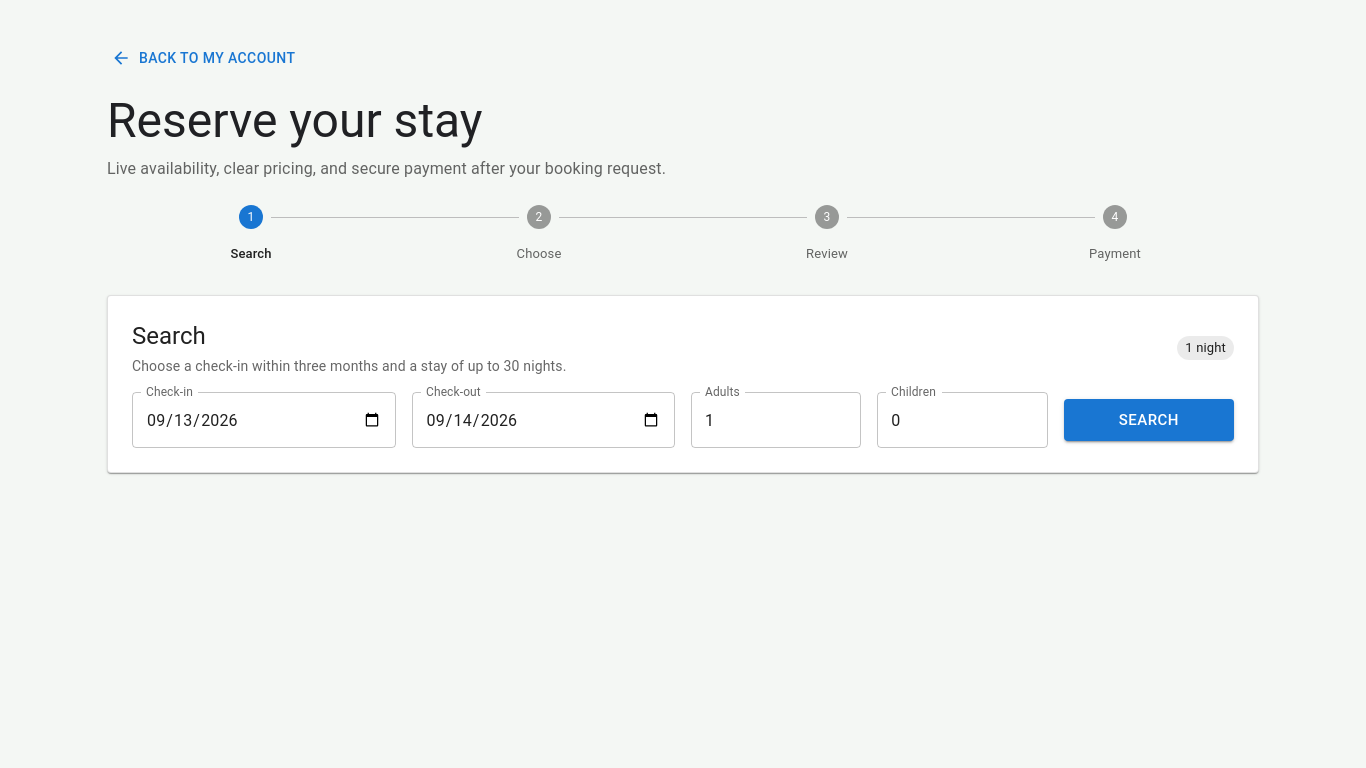
Test case: PortalBookingPage complimentary nights › re-prices against the specific night the guest comped, not an average
Step 1. Click the button "Search" → x=1149, y=420, box x1=1064 y1=399 x2=1234 y2=441
(page scrolled)
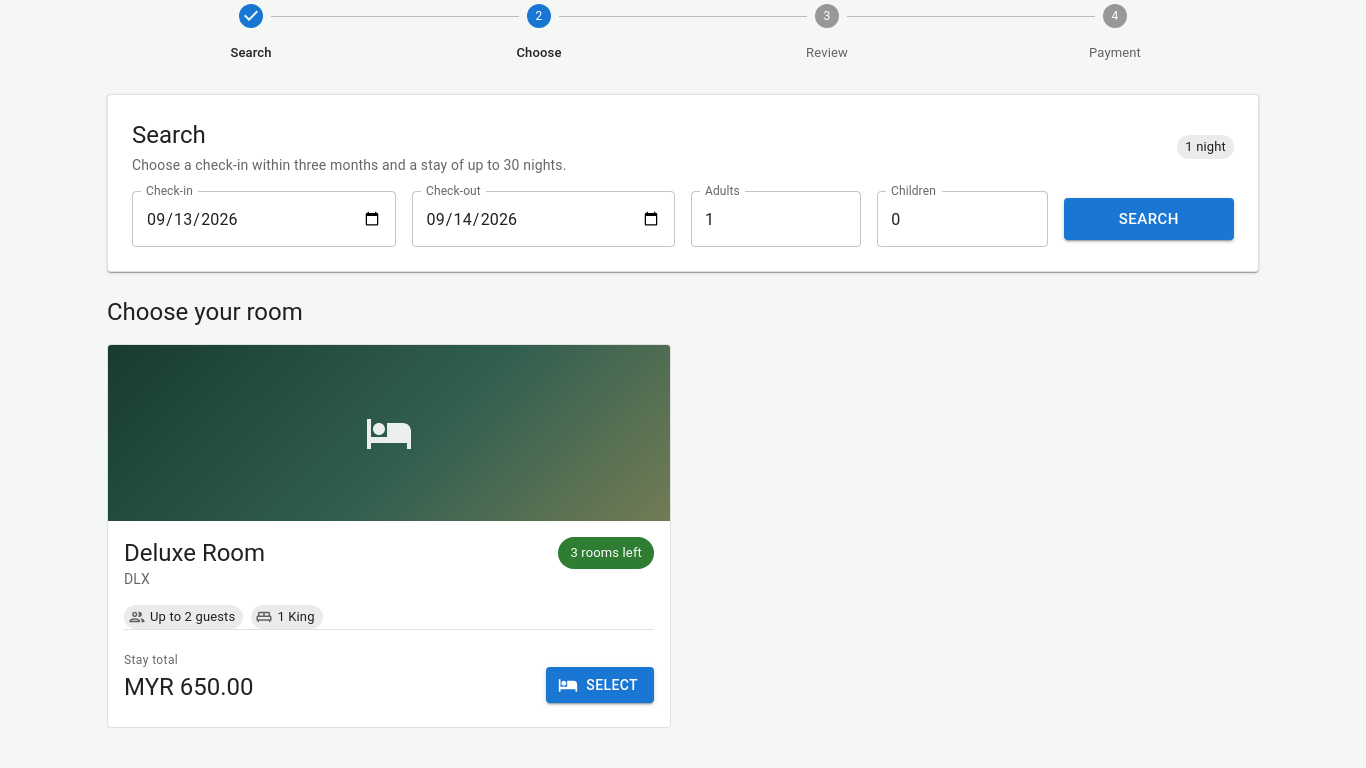
Step 2. Click the button "Select" → x=600, y=685, box x1=546 y1=667 x2=654 y2=703
(page scrolled)
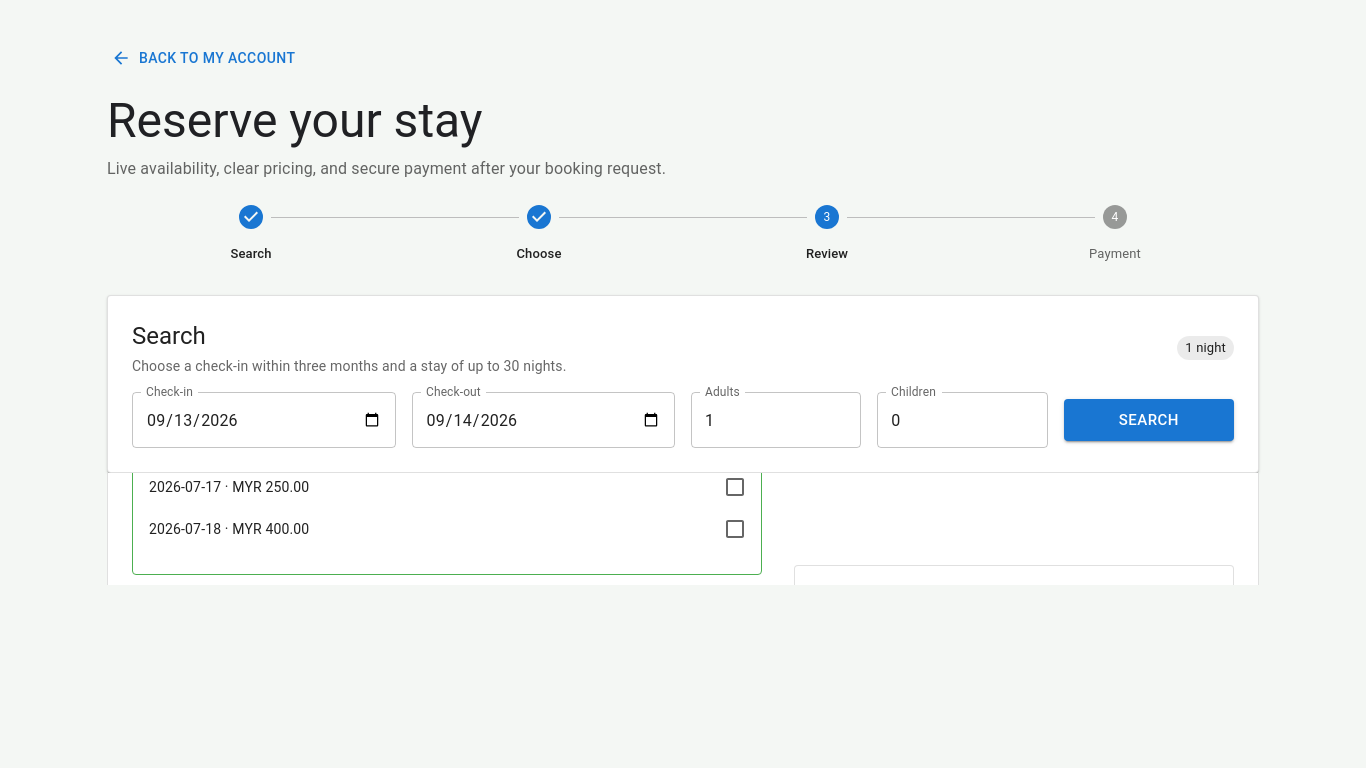
Step 3. Click the checkbox labelled "2026-07-18 · MYR 400.00" → x=185, y=529, box x1=149 y1=517 x2=746 y2=541
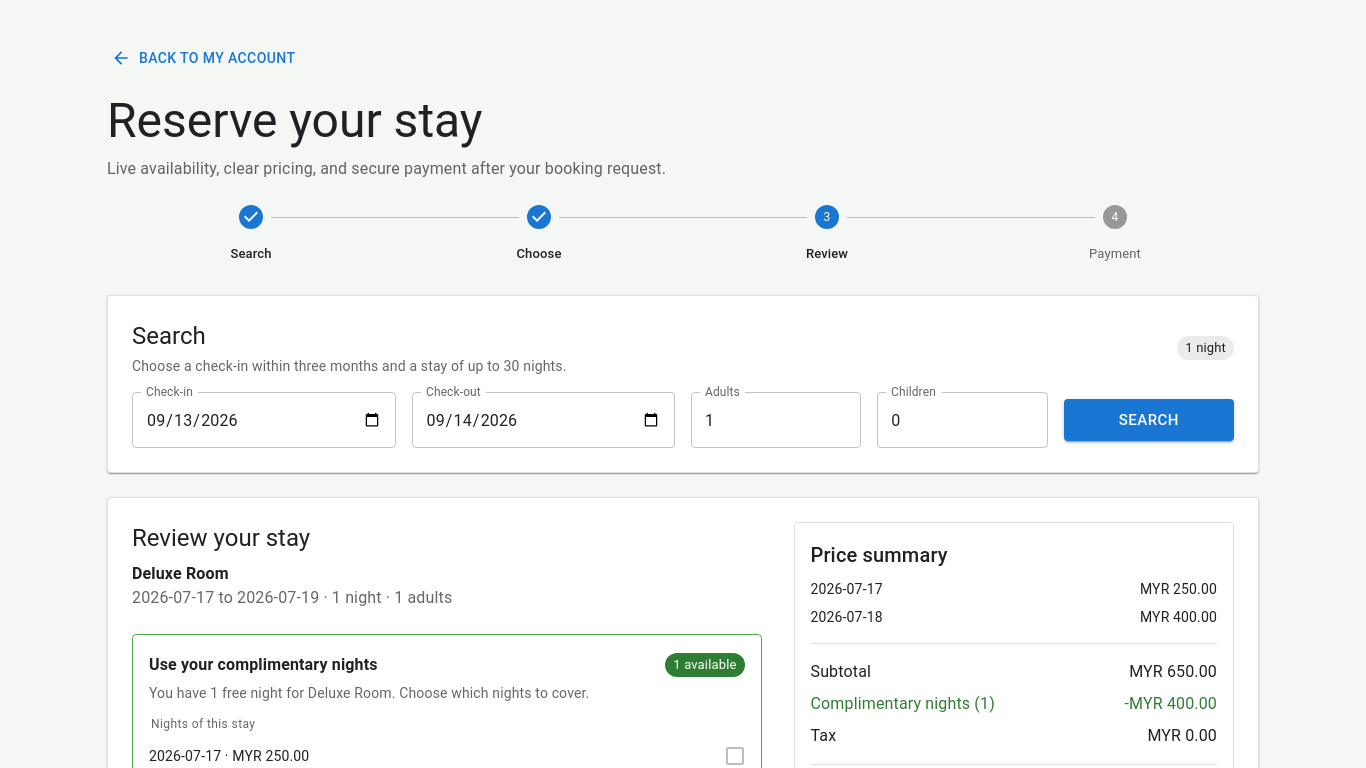
Expected: the text "Complimentary nights (1)" is shown, x1=810 y1=692 x2=995 y2=716
